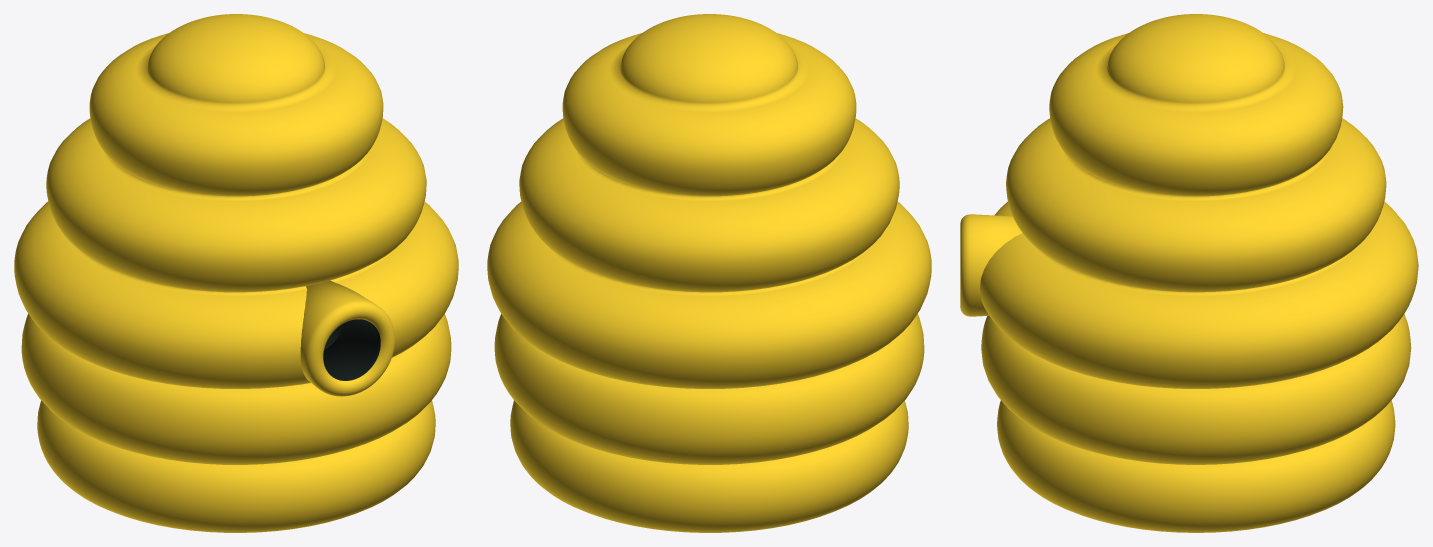
The model's file is Small_Hive_Yellow.fbx.
3 views of the same model, side by side, from view 1: azimuth 30°, elevation 25°; view 2: azimuth 150°, elevation 25°; view 3: azimuth 270°, elevation 25° (orthographic).
Parts seen in each view (by area): view 1: Small_Hive_Yellow_Body, Small_Hive_Yellow_Entrance_Collar; view 2: Small_Hive_Yellow_Body; view 3: Small_Hive_Yellow_Body, Small_Hive_Yellow_Entrance_Collar.
Part boxes in pixels (left/top/right/bottom): Small_Hive_Yellow_Body: left=14, top=14, right=458, bottom=532; Small_Hive_Yellow_Entrance_Collar: left=300, top=280, right=395, bottom=396; Small_Hive_Yellow_Body: left=487, top=14, right=931, bottom=532; Small_Hive_Yellow_Body: left=980, top=14, right=1418, bottom=532; Small_Hive_Yellow_Entrance_Collar: left=960, top=214, right=1021, bottom=316.
Bounding box in the file's own units: 209 × 223 × 215.
